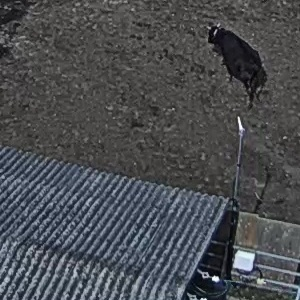cow: (187, 15, 270, 116)
